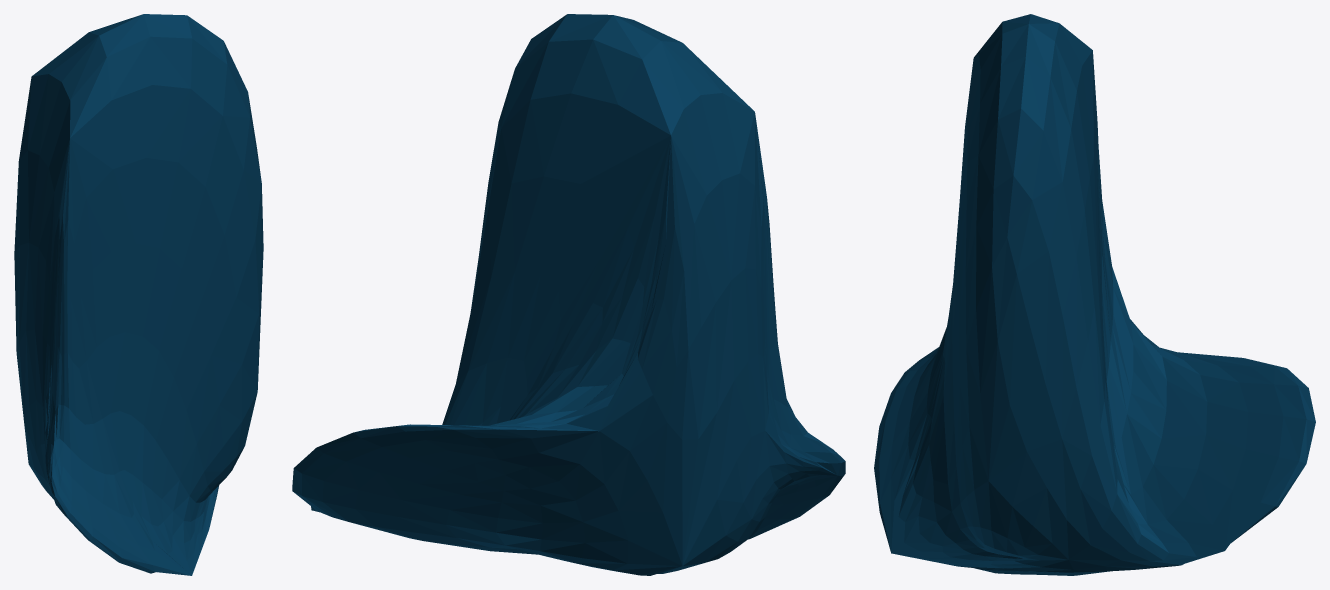
3 views of the same model, side by side, from view 1: azimuth 30°, elevation 25°; view 2: azimuth 150°, elevation 25°; view 3: azimuth 270°, elevation 25° (orthographic). The views are drawn at different scales.
Parts seen in each view (by area): view 1: 062_Cube.255; view 2: 062_Cube.255; view 3: 062_Cube.255.
Boxes of the visible parts, x1,y1,x2,y2 form: 062_Cube.255: (14, 14, 263, 575); 062_Cube.255: (292, 14, 845, 575); 062_Cube.255: (874, 14, 1315, 575).
Size of the model in its own units: 8.1 by 12.29 by 9.12.
